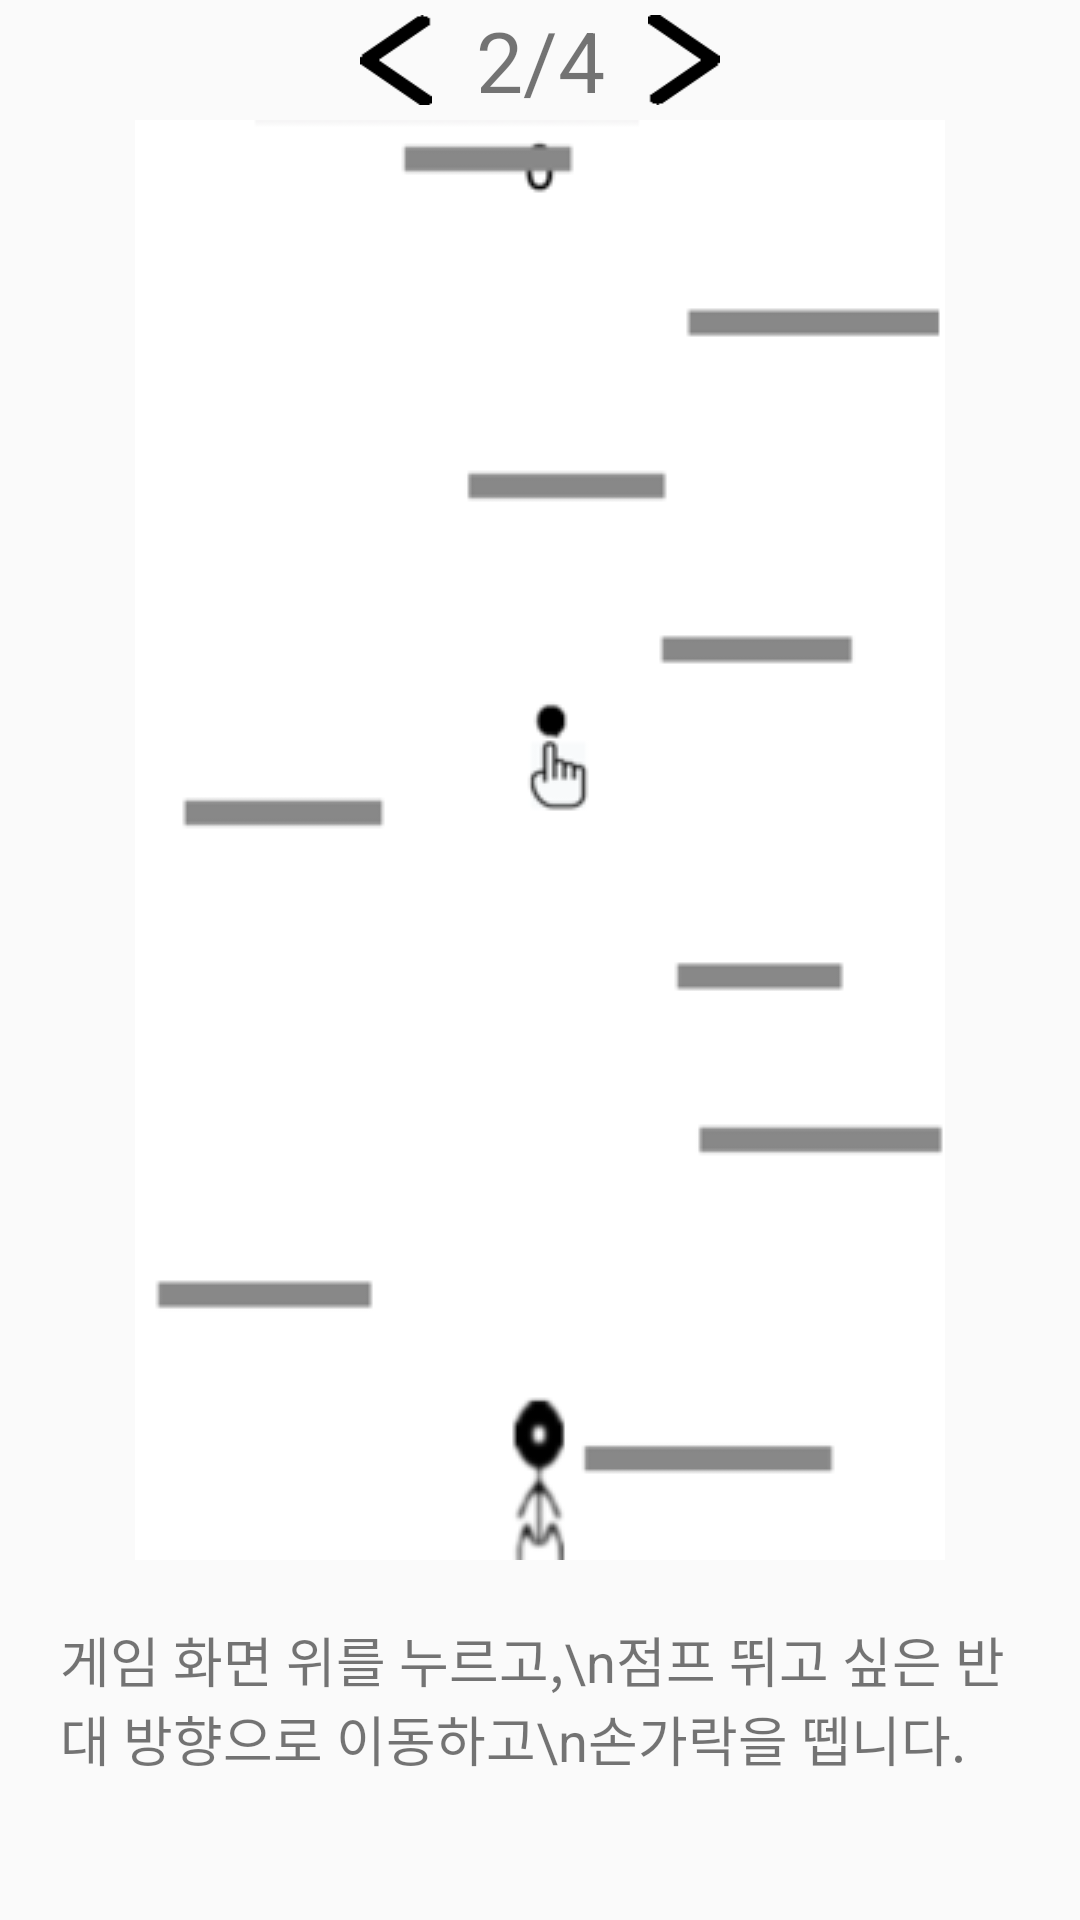

Where to tap for icons on this 1080px×1920px app screen, as [x,y]:
beforepage: [396,60]
nextpage: [684,60]
